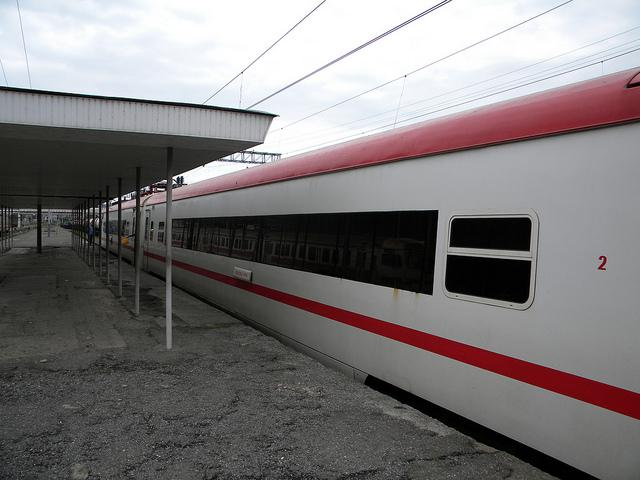Train: (104, 67, 638, 474)
